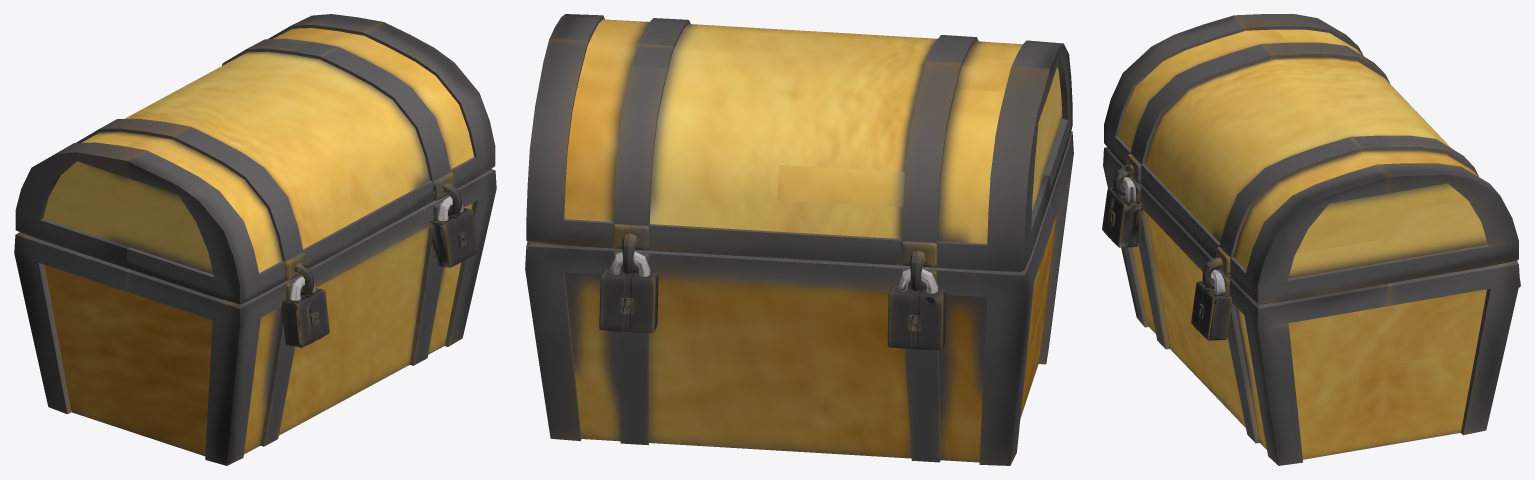
The model's file is Chest (2).fbx.
3 renders of one model, left to right at view 1: azimuth 30°, elevation 25°; view 2: azimuth 150°, elevation 25°; view 3: azimuth 270°, elevation 25°, orthographic. The views are drawn at different scales.
Parts seen in each view (by area): view 1: Chest; view 2: Chest; view 3: Chest.
Boxes of the visible parts, bbox=[...] form: Chest: bbox=[14, 14, 496, 465]; Chest: bbox=[525, 14, 1073, 465]; Chest: bbox=[1102, 14, 1520, 465].
Bounding box in the file's own units: 355 × 223 × 305.
Materials: 1 (1 with a texture image).
